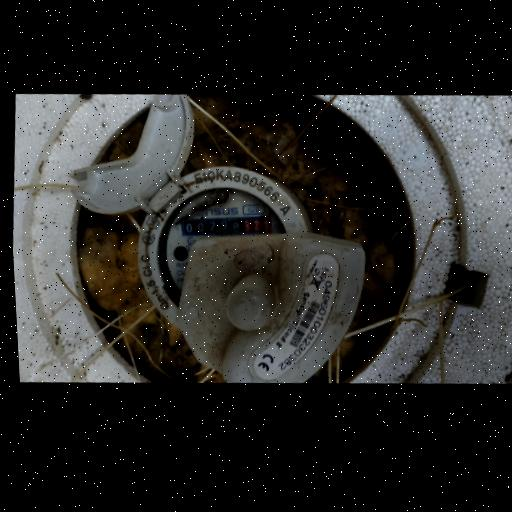0: (196, 221, 207, 235), (185, 220, 194, 235)
1: (262, 217, 271, 233)
2: (207, 219, 218, 234), (252, 219, 261, 233)
3: (243, 219, 252, 233)
8: (231, 219, 242, 234)
9: (220, 219, 229, 233)
border_water_meter_number: (179, 209, 272, 242)
